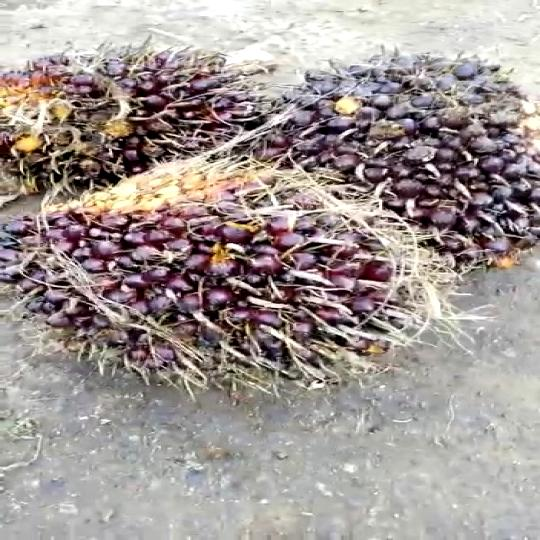kurang masak: (17, 166, 458, 428), (274, 49, 540, 294), (0, 59, 275, 212)
